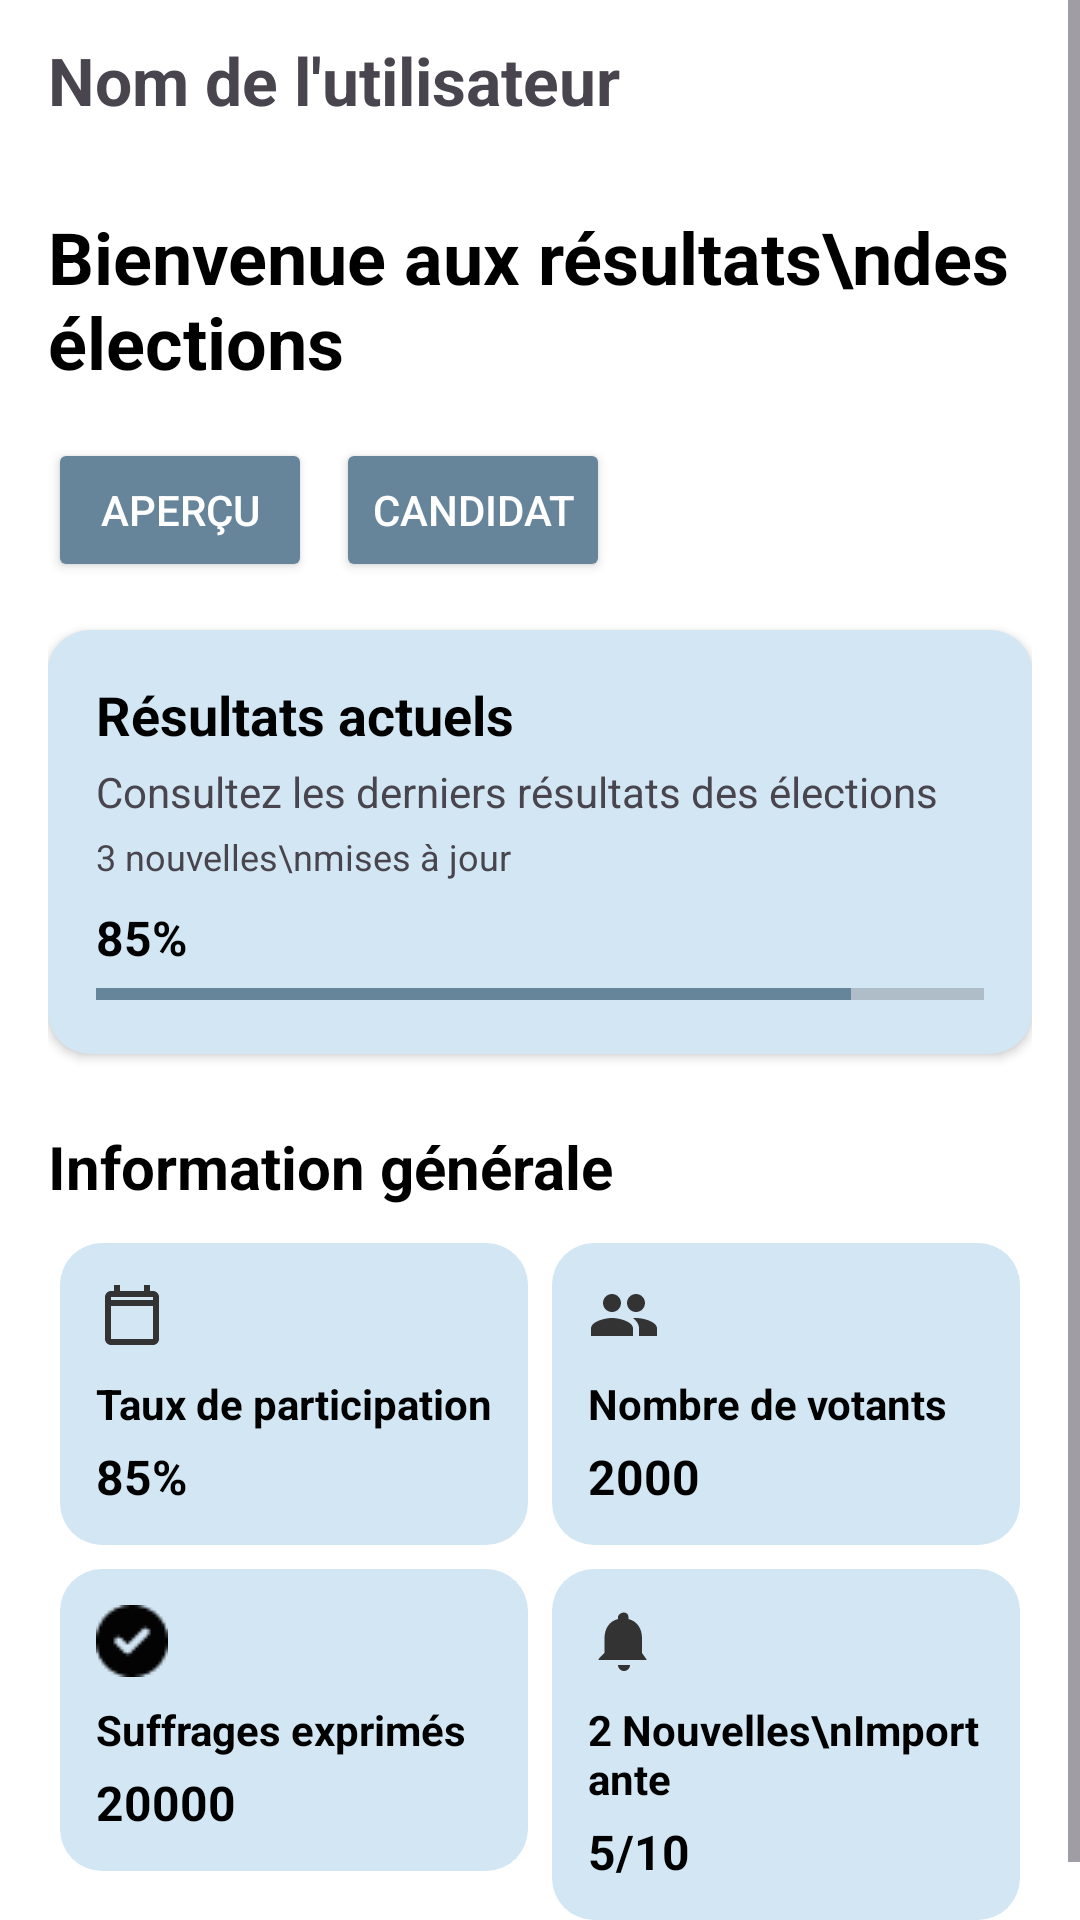

Screen size 1080*1920. Icon name, then its center in pixels as (x,y):
Calendrier: (132,1315)
Notifications: (622,1641)
Personnes: (624,1315)
Validation: (132,1641)
